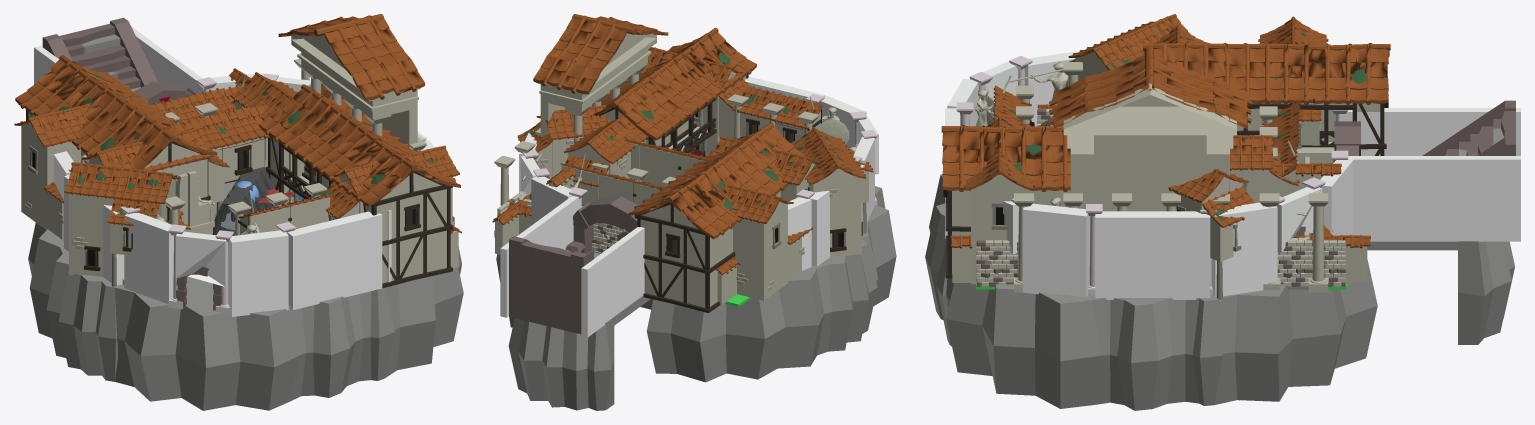
File: RoomR3.fbx
The picture shows the model from 3 angles, left to right: view 1: azimuth 30°, elevation 25°; view 2: azimuth 150°, elevation 25°; view 3: azimuth 270°, elevation 25°; orthographic projection. The views are drawn at different scales.
Visible parts, largest first — view 1: CentralHub, R-R2, R-R3, R-R4, R-R6, R-R1, R-R7, TunnelNE; view 2: CentralHub, R-R2, R-R4, R-R3, R-R6, R-R1, R-R7, R-R5, R-R8; view 3: CentralHub, R-R3, R-R2, R-R6, R-R4, R-R7, R-R8, R-R1.
Part boxes in pixels (left/top/right/bottom): CentralHub: left=28, top=17, right=463, bottom=410; R-R2: left=15, top=55, right=460, bottom=288; R-R3: left=165, top=14, right=424, bottom=235; R-R4: left=14, top=83, right=459, bottom=239; R-R6: left=64, top=83, right=461, bottom=286; R-R1: left=82, top=72, right=304, bottom=231; R-R7: left=165, top=58, right=426, bottom=224; TunnelNE: left=212, top=167, right=273, bottom=235; CentralHub: left=496, top=76, right=896, bottom=410; R-R2: left=593, top=28, right=803, bottom=313; R-R4: left=560, top=47, right=822, bottom=300; R-R3: left=533, top=14, right=819, bottom=186; R-R6: left=492, top=105, right=873, bottom=305; R-R1: left=560, top=115, right=819, bottom=205; R-R7: left=494, top=128, right=709, bottom=237; R-R5: left=518, top=177, right=628, bottom=253; R-R8: left=497, top=191, right=750, bottom=306; CentralHub: left=925, top=49, right=1520, bottom=410; R-R3: left=1016, top=46, right=1277, bottom=211; R-R2: left=941, top=42, right=1390, bottom=278; R-R6: left=950, top=14, right=1370, bottom=302; R-R4: left=964, top=16, right=1328, bottom=284; R-R7: left=1014, top=62, right=1341, bottom=292; R-R8: left=976, top=240, right=1346, bottom=289; R-R1: left=1156, top=25, right=1299, bottom=202.
Bounding box in the file's own units: 2923 × 2140 × 3715.
